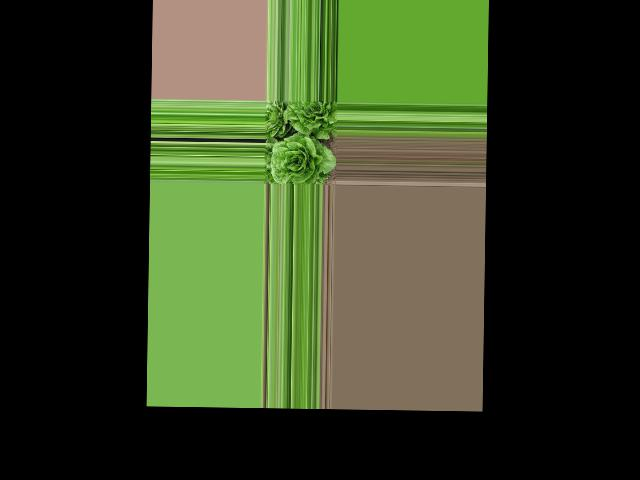lettuce: (283, 99, 335, 134)
